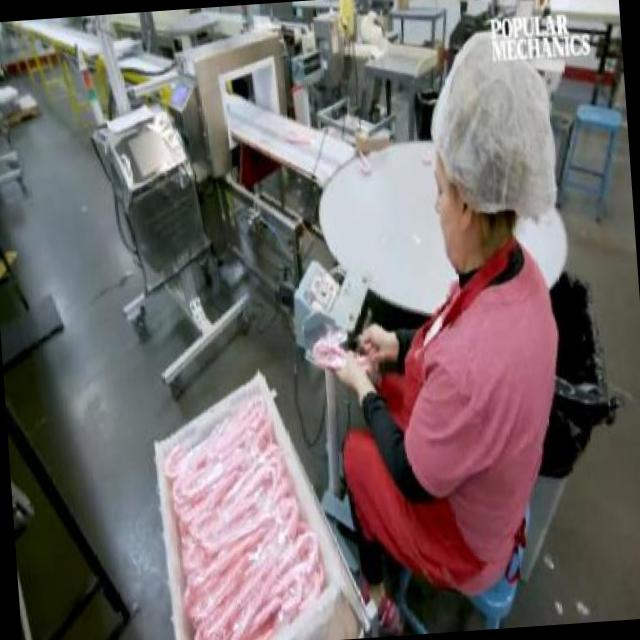hairnet: (433, 30, 556, 221)
